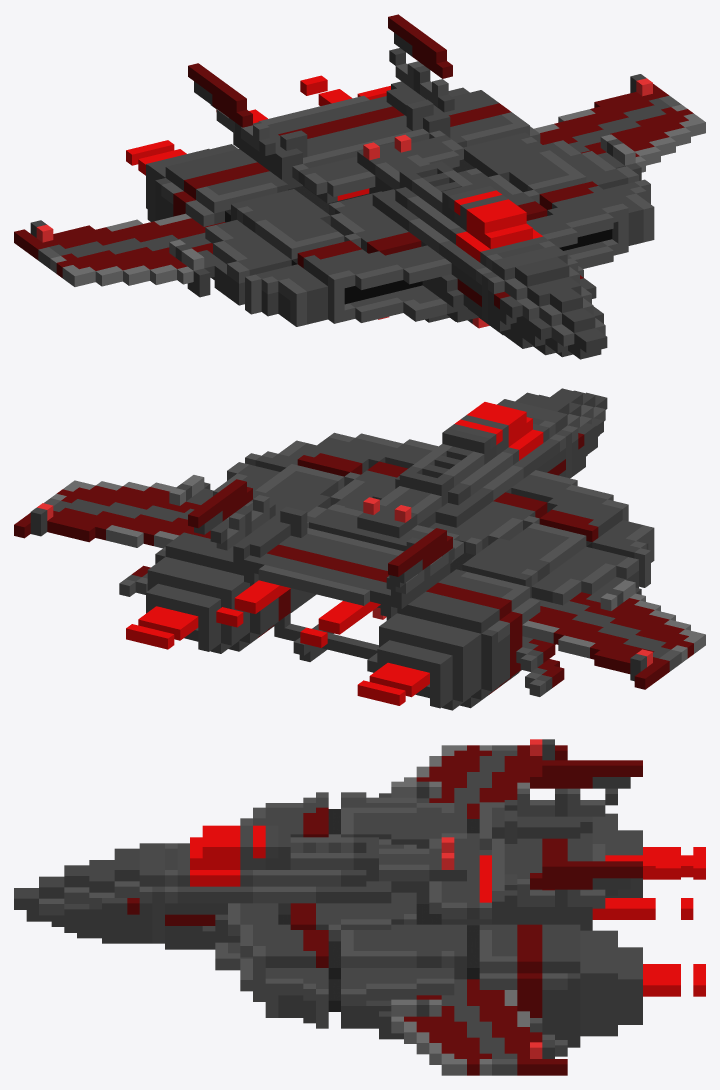
File: CamoStellarJet.obj
3 renders of one model, top to bottom at view 1: azimuth 30°, elevation 25°; view 2: azimuth 150°, elevation 25°; view 3: azimuth 270°, elevation 25°, orthographic. The views are drawn at different scales.
Size of the model in its own units: 6 by 1.6 by 5.5.
1 material, 1 textured.
